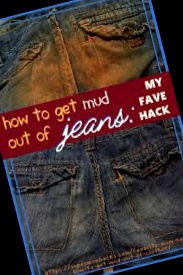earth: (17, 35, 127, 104)
